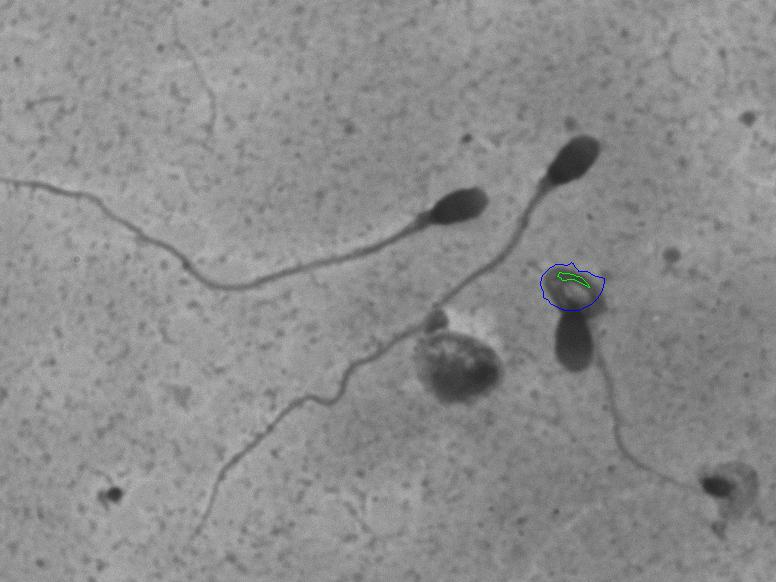Abnormal: (532, 255, 694, 511)
Normal: (165, 118, 616, 559), (6, 164, 498, 316)
